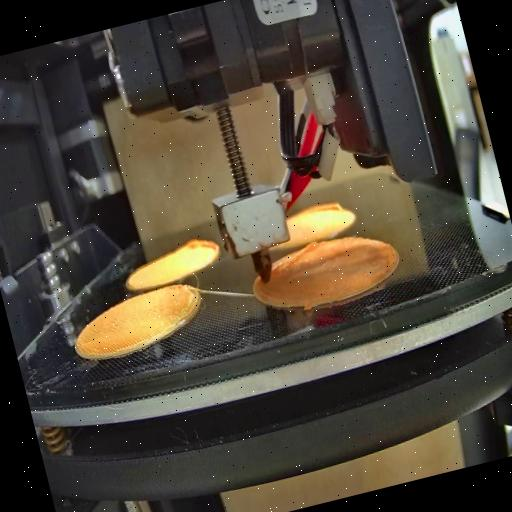over_extrusion: (266, 236, 324, 278), (183, 229, 226, 273), (306, 194, 344, 222)
